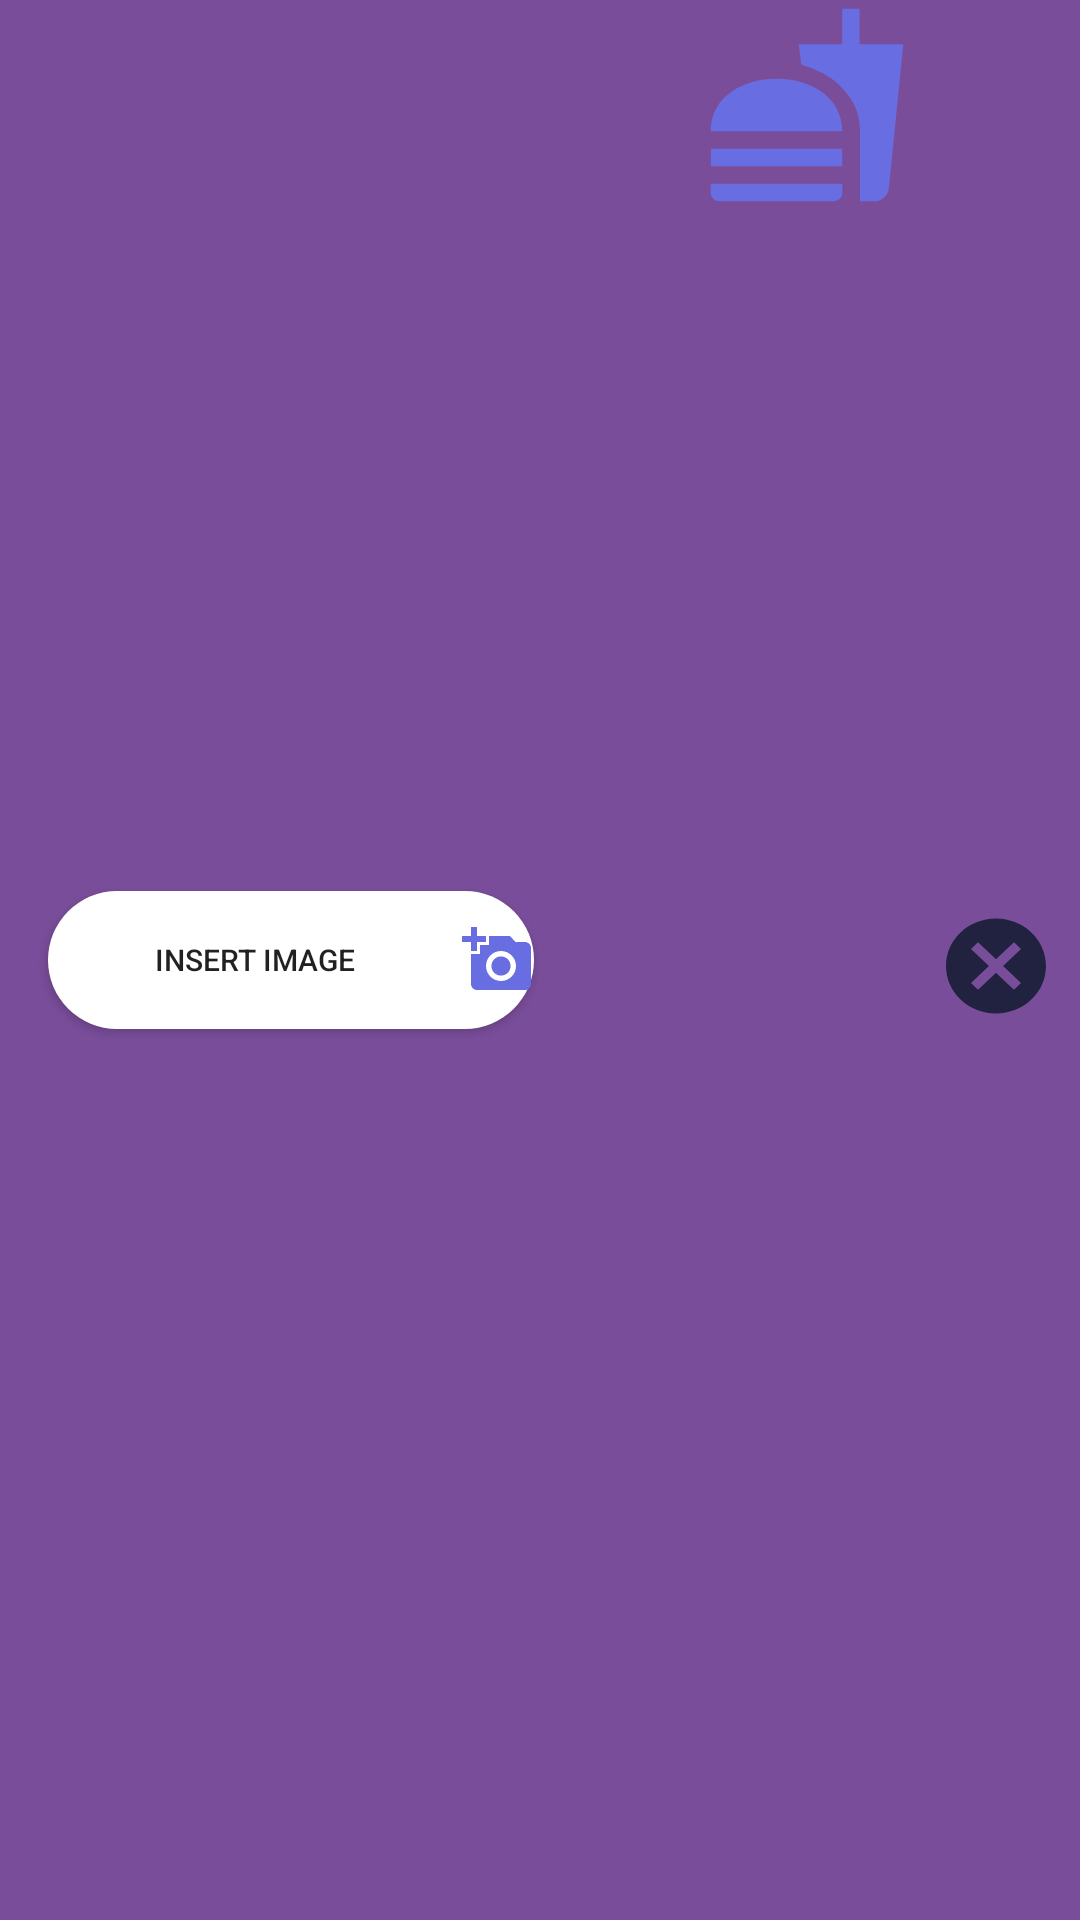

Where to tap for icons on this 1080*1920 app screen, as point (x, y):
cancel: point (996, 966)
fastfood: point (807, 105)
